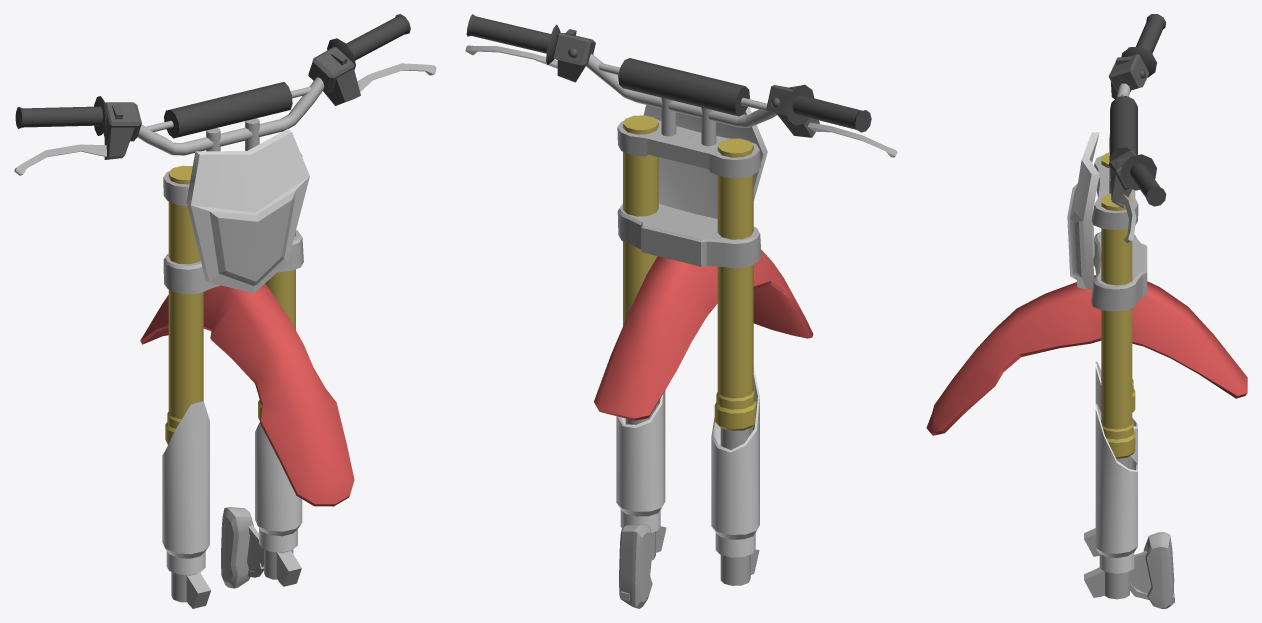
The model's file is bike_motard_front_suspension.fbx.
3 renders of one model, left to right at view 1: azimuth 30°, elevation 25°; view 2: azimuth 150°, elevation 25°; view 3: azimuth 270°, elevation 25°, orthographic. The views are drawn at different scales.
Parts seen in each view (by area): view 1: polySurface227, polySurface224; view 2: polySurface227, polySurface224; view 3: polySurface227, polySurface224.
Part boxes in pixels (left/top/right/bottom): polySurface227: left=14, top=14, right=436, bottom=506; polySurface224: left=162, top=401, right=302, bottom=608; polySurface227: left=465, top=14, right=897, bottom=430; polySurface224: left=616, top=366, right=759, bottom=608; polySurface227: left=926, top=14, right=1247, bottom=458; polySurface224: left=1084, top=361, right=1174, bottom=608.
Bounding box in the file's own units: 87.82 × 106 × 62.49.
